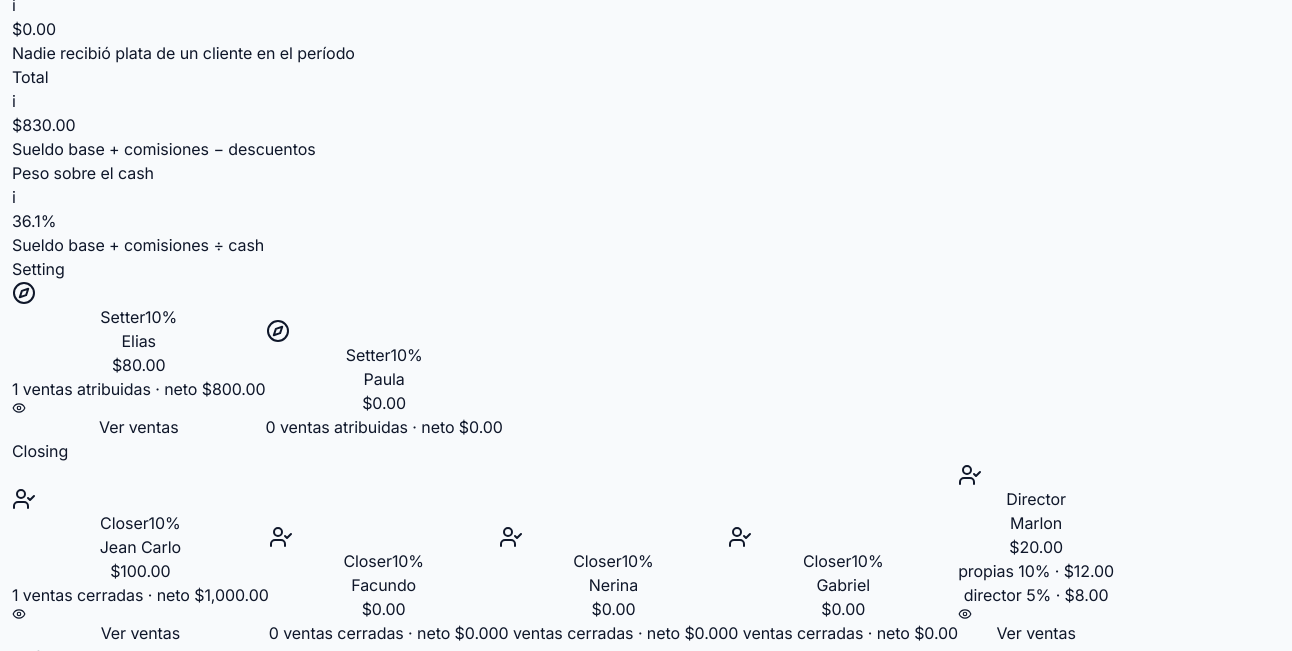
it: Payroll › tocar un tile abre sus ventas ahí mismo, en lugar de los tiles, y «Volver» los trae de vuelta
(page scrolled)
Expected: the text "Elias" is shown, x1=122 y1=331 x2=156 y2=351
Click the button titled "Ver las ventas de Elias": [139, 360] box x1=12 y1=281 x2=266 y2=439
(page scrolled)
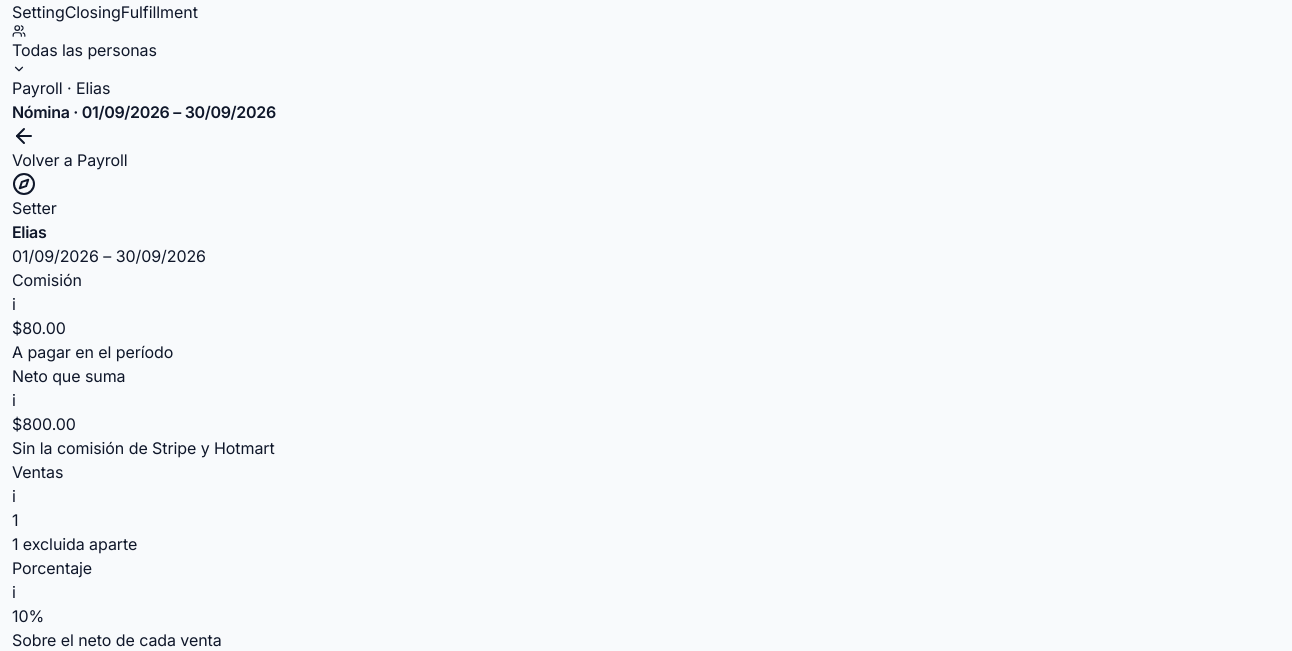
Expected: the heading "Elias" is shown, x1=12 y1=222 x2=46 y2=242
Click the button "Volver a Payroll": [70, 148] box x1=12 y1=124 x2=128 y2=172
(page scrolled)
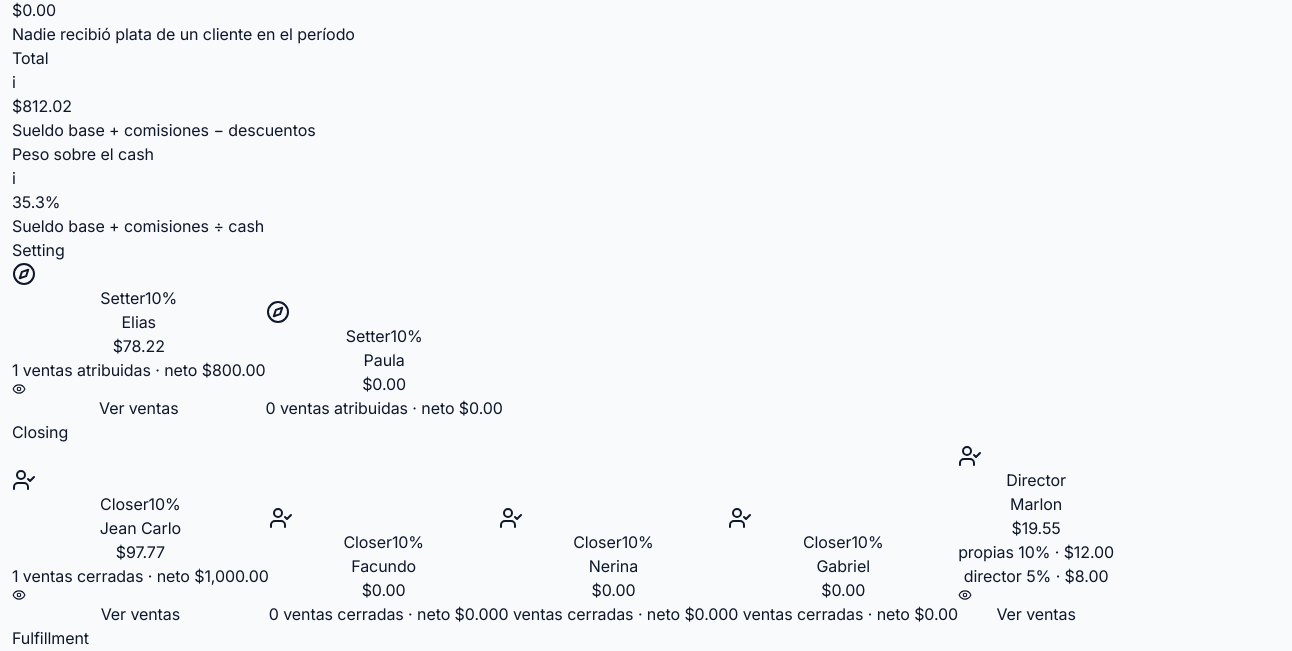
Expected: the button titled "Ver las ventas de Jean Carlo" is shown, x1=12 y1=468 x2=269 y2=626
Expected: the button "Paula" is disabled, x1=266 y1=300 x2=503 y2=420
